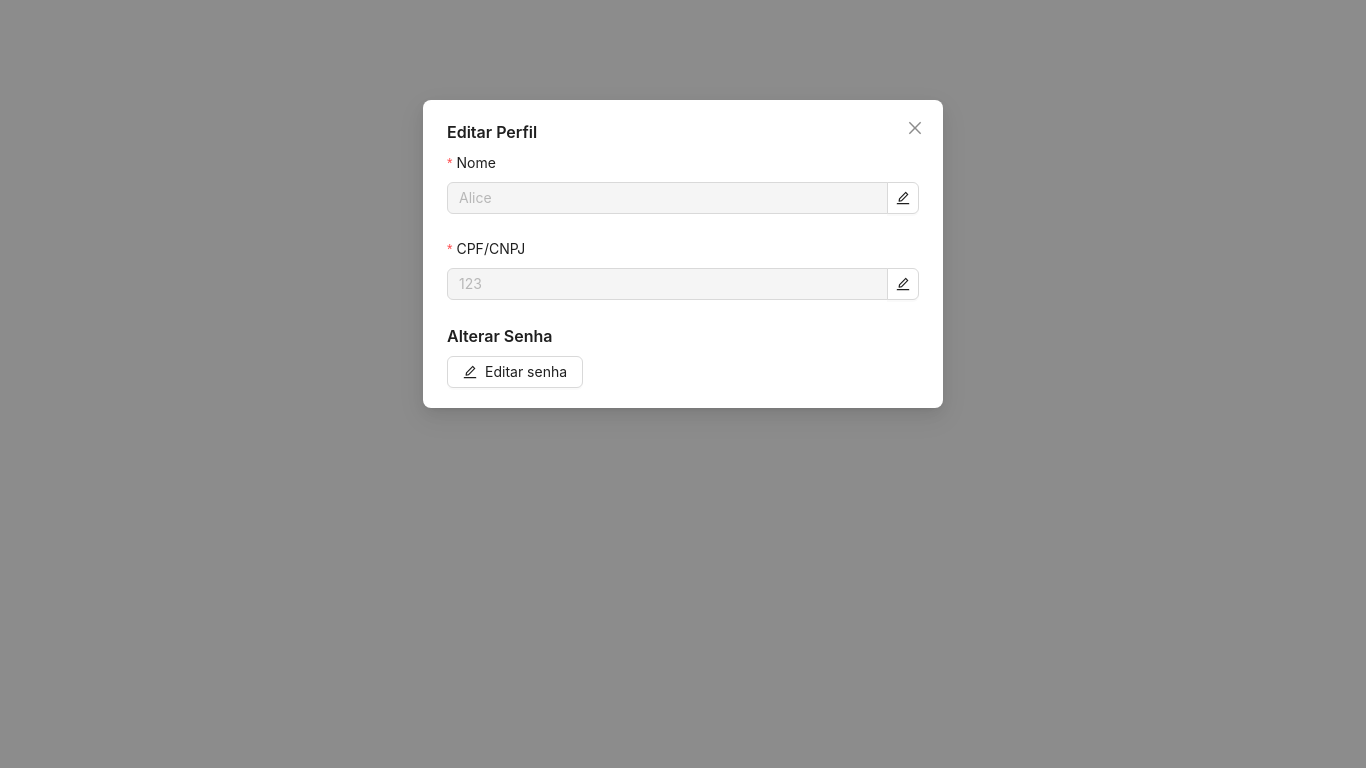
Scenario: CustomerEditProfileModal › cancela edição do nome restaurando valor
Expected: the dialog "Editar Perfil Nome CPF/CNPJ Alterar Senha Editar senha" is shown, [423,100,943,432]
Click the 2nd button.
click(903, 198)  # box [887,182,919,214]
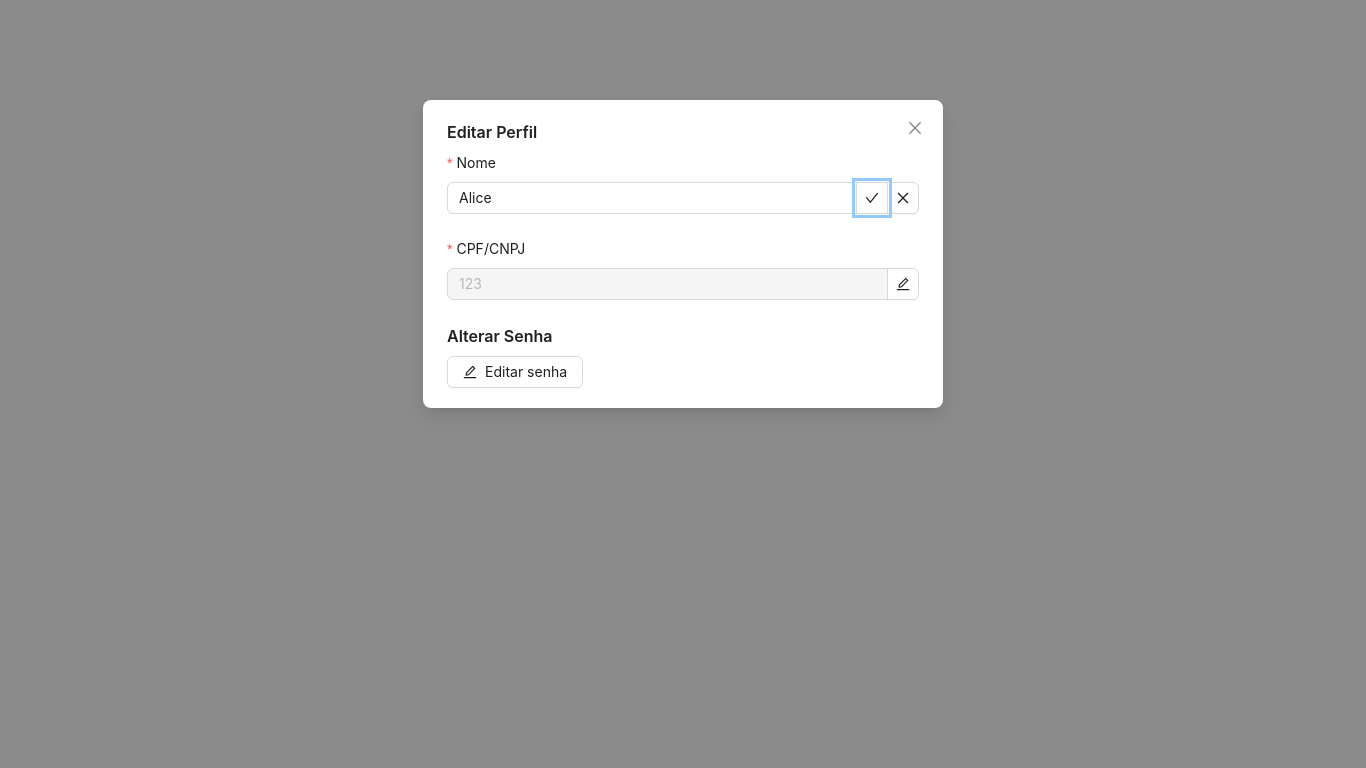
Replace the text in the field below "Nome" with "Outro Nome" at (652, 198), box [447,182,857,214]
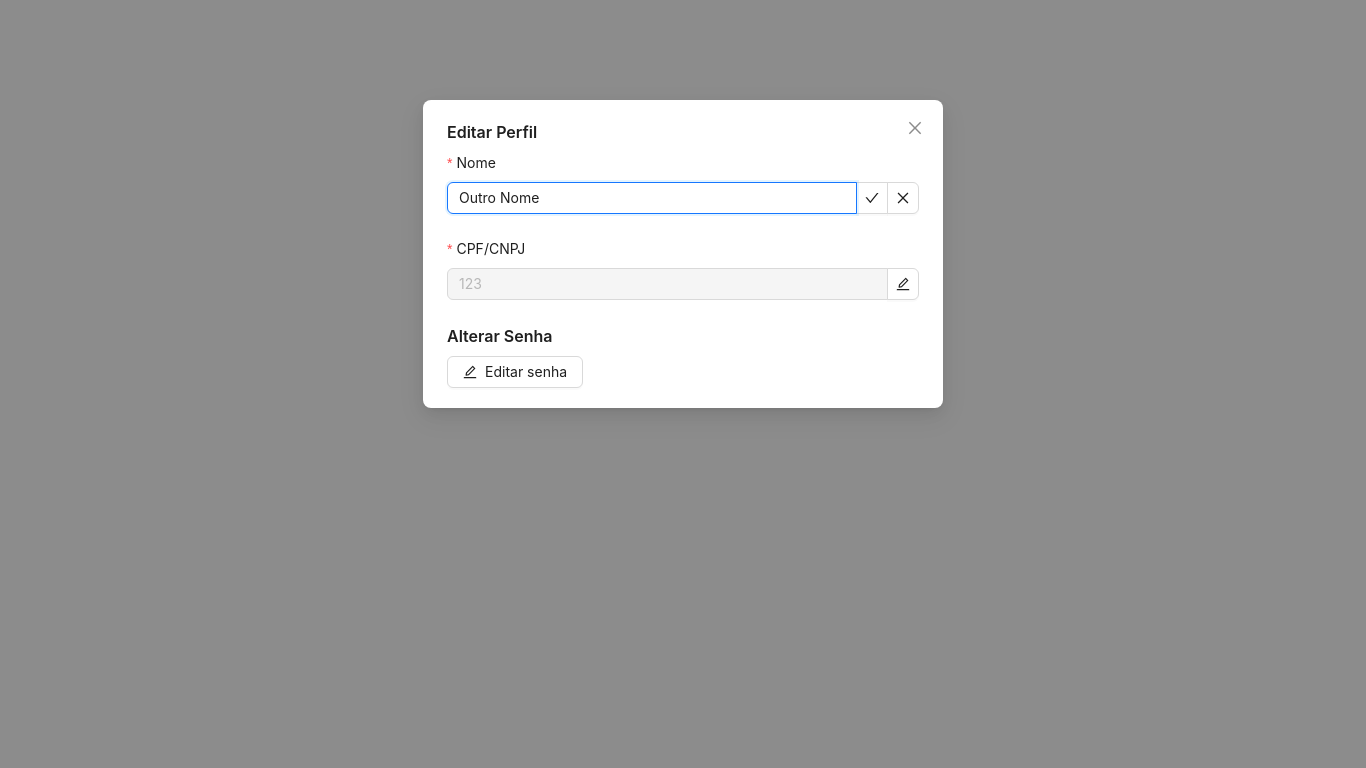
Click the 3rd button.
click(903, 198)  # box [887,182,919,214]
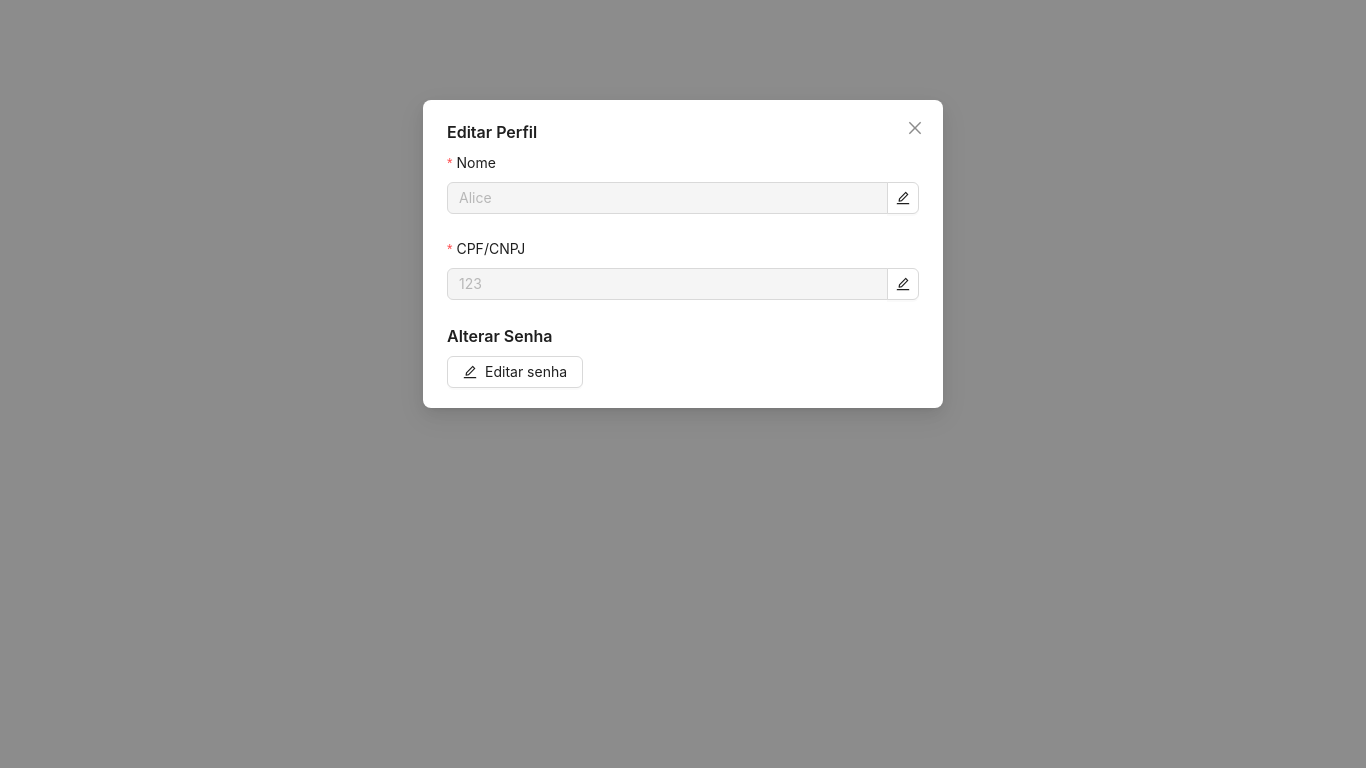
Result: the field below "Nome" holds "Alice" at [447,182,888,214]
